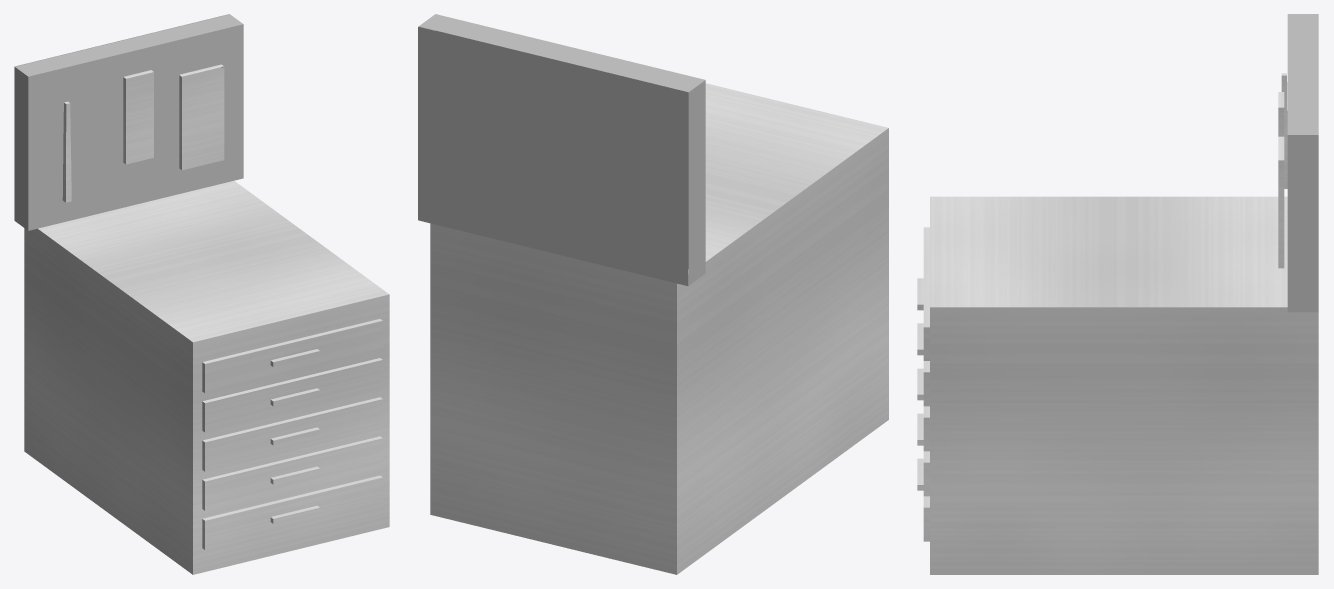
File: tool_cabinet.obj
The picture shows the model from 3 angles, left to right: view 1: azimuth 30°, elevation 25°; view 2: azimuth 150°, elevation 25°; view 3: azimuth 270°, elevation 25°; orthographic projection. The views are drawn at different scales.
Visible parts, largest first — view 1: tool_cabinet; view 2: tool_cabinet; view 3: tool_cabinet.
Part boxes in pixels (<box>): tool_cabinet: <box>14,14,389,574</box>; tool_cabinet: <box>418,14,888,574</box>; tool_cabinet: <box>917,14,1318,574</box>.
Bounding box in the file's own units: 0.92 × 1.58 × 1.29.
